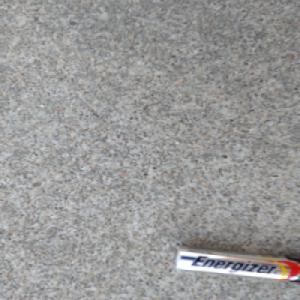Battery: (169, 245, 300, 286)
